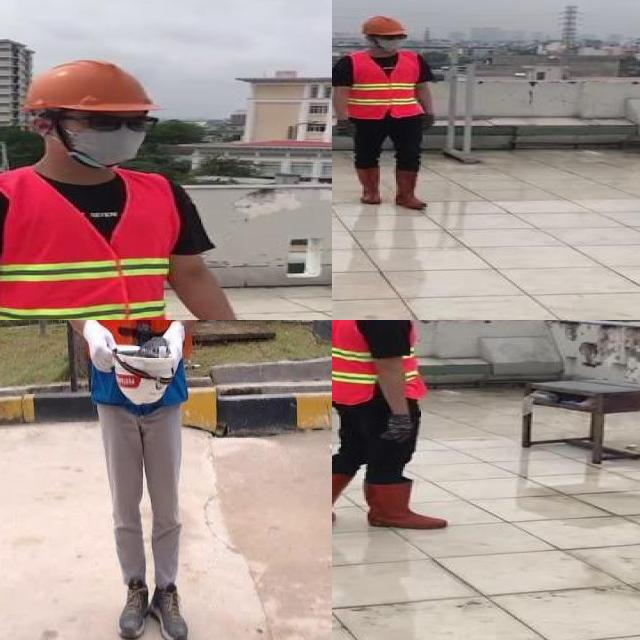boots: (357, 480, 446, 529), (151, 574, 192, 640), (119, 574, 150, 640), (391, 168, 428, 209), (352, 166, 382, 205), (332, 472, 351, 526)
face_mask: (60, 109, 154, 166), (374, 33, 406, 51)
glasses: (74, 112, 161, 136), (377, 31, 411, 42)
hand_glove: (384, 414, 410, 441), (419, 112, 439, 133), (336, 119, 355, 139)
head_helmet: (16, 52, 158, 116), (112, 340, 174, 411), (360, 15, 410, 36)
person: (0, 44, 282, 320), (43, 320, 228, 640), (332, 320, 463, 532), (332, 13, 452, 210)
vest: (0, 168, 181, 320), (82, 320, 191, 407), (332, 320, 422, 404), (348, 51, 424, 120)
